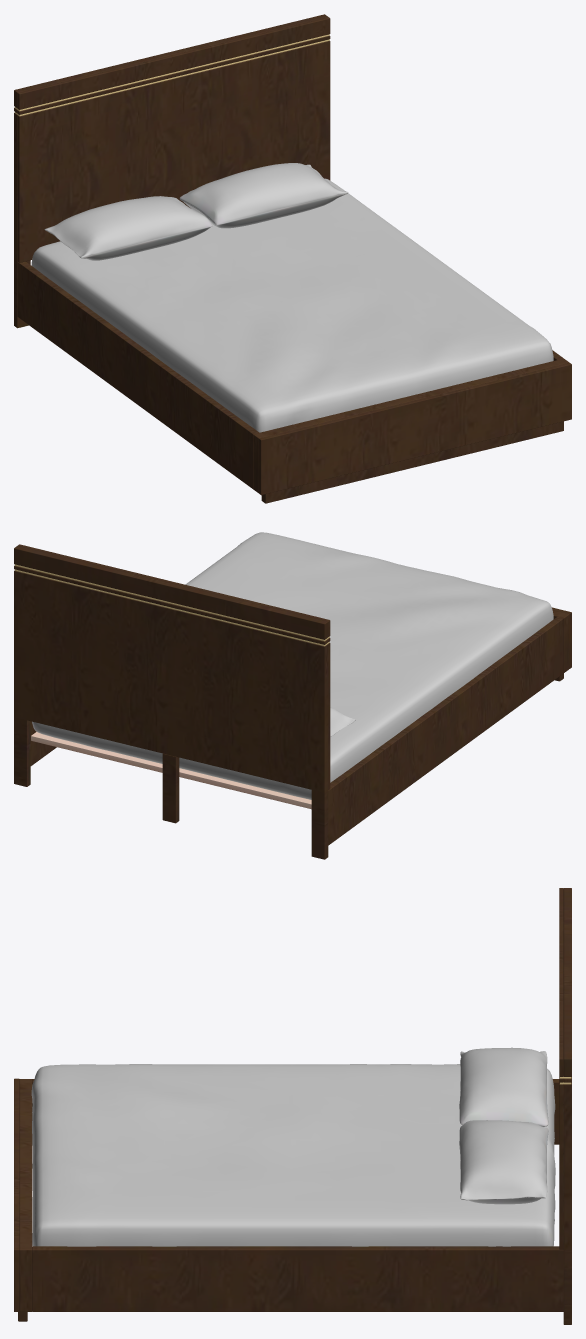
The model's file is abo-B0719SNKSY.glb.
3 views of the same model, one above another, from view 1: azimuth 30°, elevation 25°; view 2: azimuth 150°, elevation 25°; view 3: azimuth 270°, elevation 25° (orthographic). The views are drawn at different scales.
Size of the model in its own units: 1.61 by 1.17 by 2.22.
Materials: 1 (1 with a texture image).
